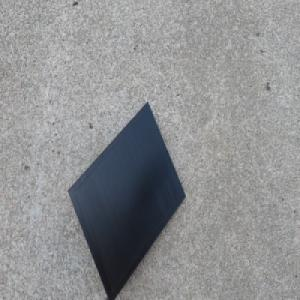PlasticPart: (66, 100, 187, 300)
